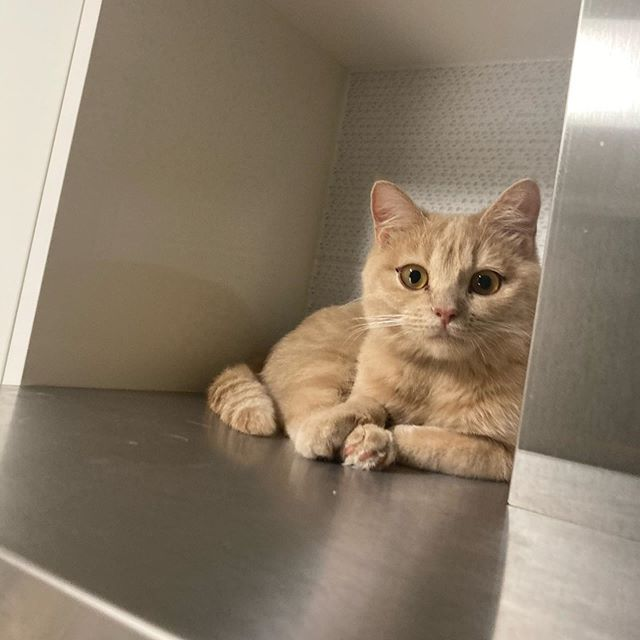cat: (357, 168, 551, 369)
